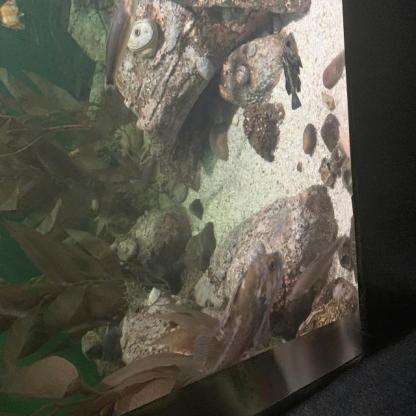fish: (179, 247, 286, 393), (101, 0, 141, 94), (279, 30, 307, 112), (0, 0, 25, 32)
